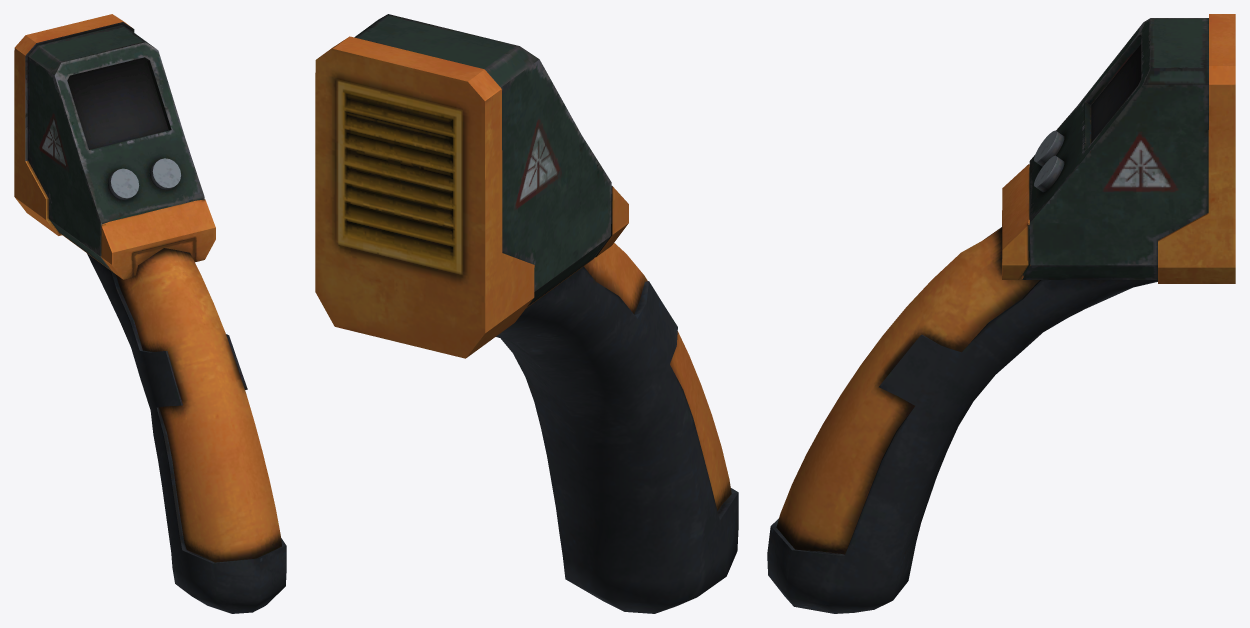
The model's file is thermo_heavy.DAE.
3 renders of one model, left to right at view 1: azimuth 30°, elevation 25°; view 2: azimuth 150°, elevation 25°; view 3: azimuth 270°, elevation 25°, orthographic. The views are drawn at different scales.
Visible parts, largest first — view 1: Box005; view 2: Box005; view 3: Box005.
Boxes of the visible parts, x1,y1,x2,y2 form: Box005: (14, 14, 286, 613); Box005: (315, 14, 738, 613); Box005: (767, 14, 1235, 613).
Size of the model in its own units: 3.11 by 12.56 by 9.42.
